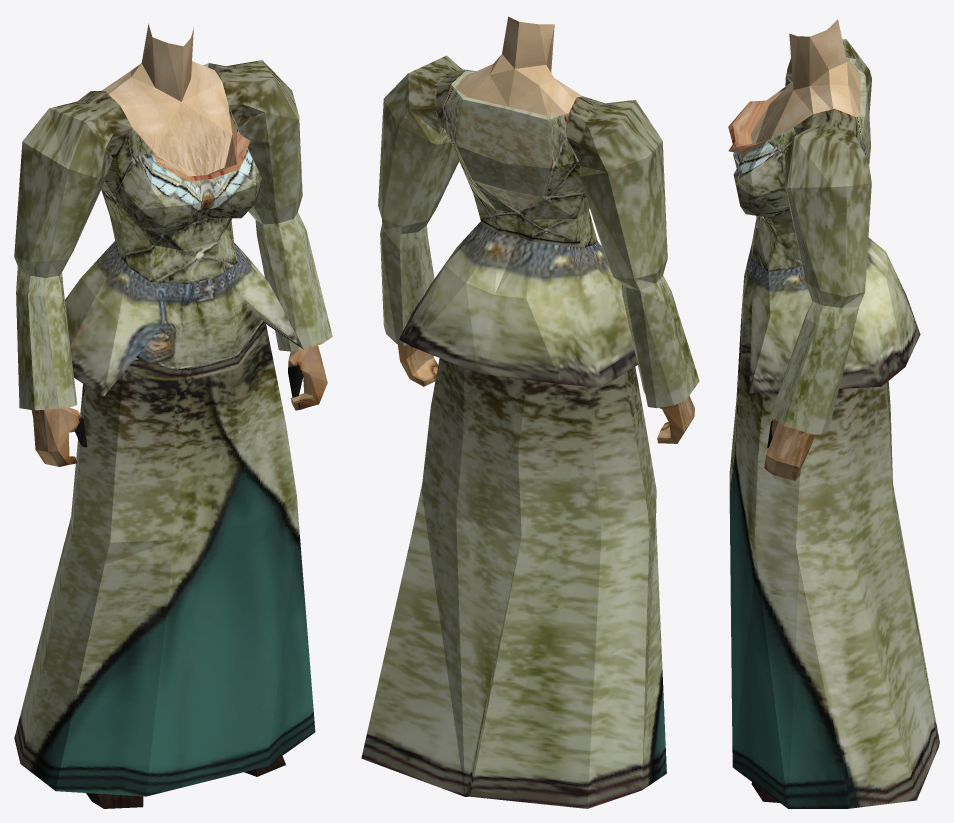
File: Armor_BauBabe_L.glb
3 views of the same model, side by side, from view 1: azimuth 30°, elevation 25°; view 2: azimuth 150°, elevation 25°; view 3: azimuth 270°, elevation 25° (orthographic).
Visible parts, largest first — view 1: Armor_BauBabe_Lzm_Magd; view 2: Armor_BauBabe_Lzm_Magd; view 3: Armor_BauBabe_Lzm_Magd.
Boxes of the visible parts, x1=… form: Armor_BauBabe_Lzm_Magd: x1=14, y1=23, x2=332, y2=808; Armor_BauBabe_Lzm_Magd: x1=361, y1=16, x2=699, y2=808; Armor_BauBabe_Lzm_Magd: x1=728, y1=19, x2=939, y2=808.
Bounding box in the file's own units: 0.6909 × 1.65 × 0.4268.
2 materials, 2 textured.
